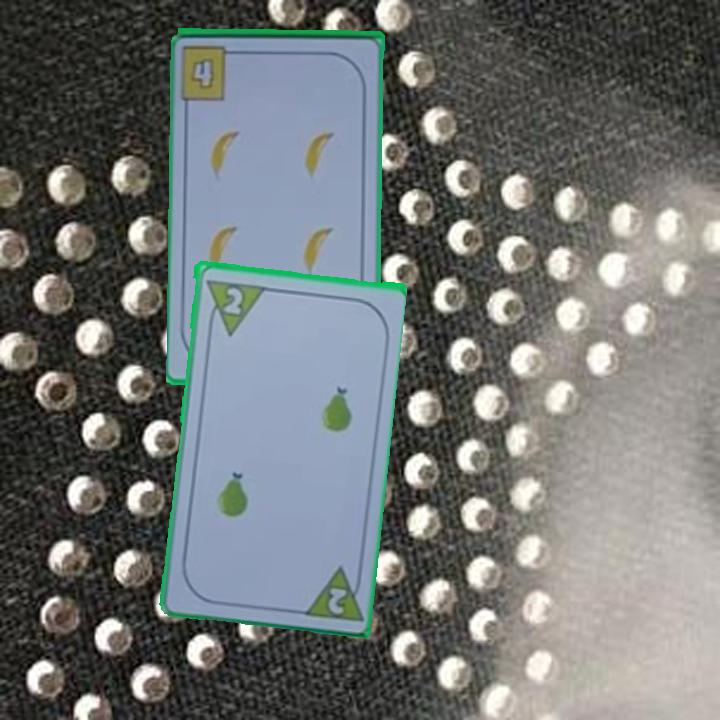2p: (201, 275, 266, 338), (324, 583, 350, 617)
4b: (187, 54, 218, 93)
